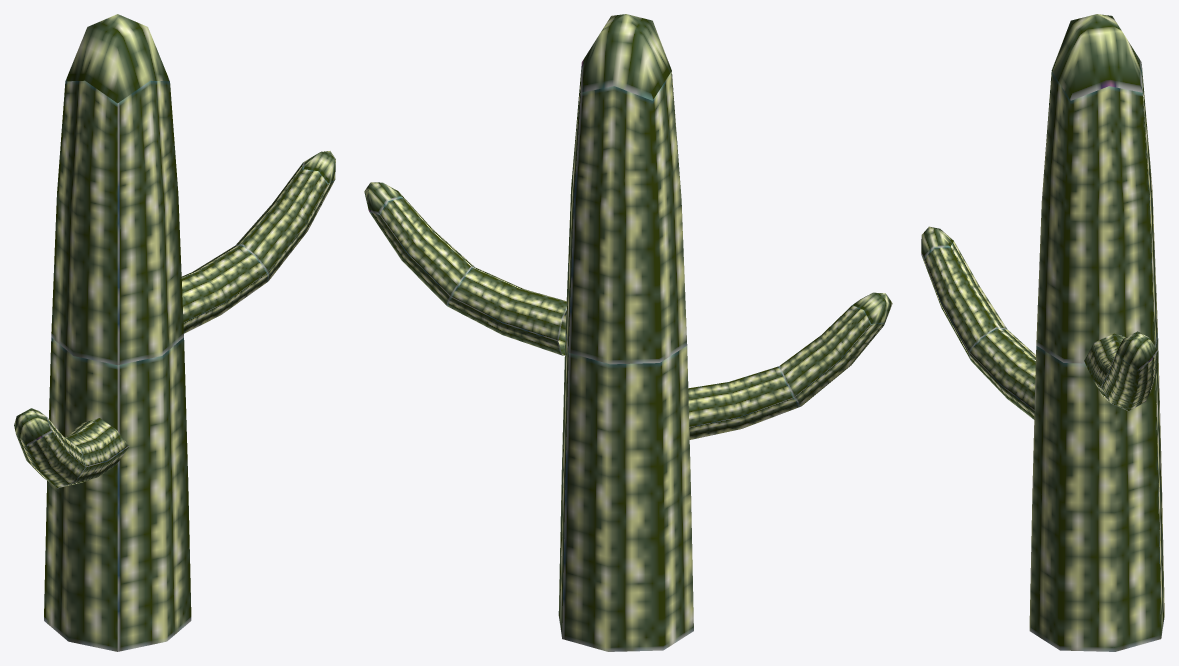
The model's file is cactus_Small_hiPoly.fbx.
The picture shows the model from 3 angles, left to right: view 1: azimuth 30°, elevation 25°; view 2: azimuth 150°, elevation 25°; view 3: azimuth 270°, elevation 25°; orthographic projection.
Visible parts, largest first — view 1: cactus_Small_hiPoly; view 2: cactus_Small_hiPoly; view 3: cactus_Small_hiPoly.
Part boxes in pixels (x1,y1,x2,y2): cactus_Small_hiPoly: [14, 14, 335, 651]; cactus_Small_hiPoly: [364, 14, 892, 651]; cactus_Small_hiPoly: [921, 14, 1164, 651].
Size of the model in its own units: 1.55 by 2.14 by 0.7751.
